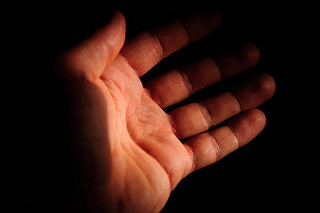palm: (74, 69, 187, 198)
